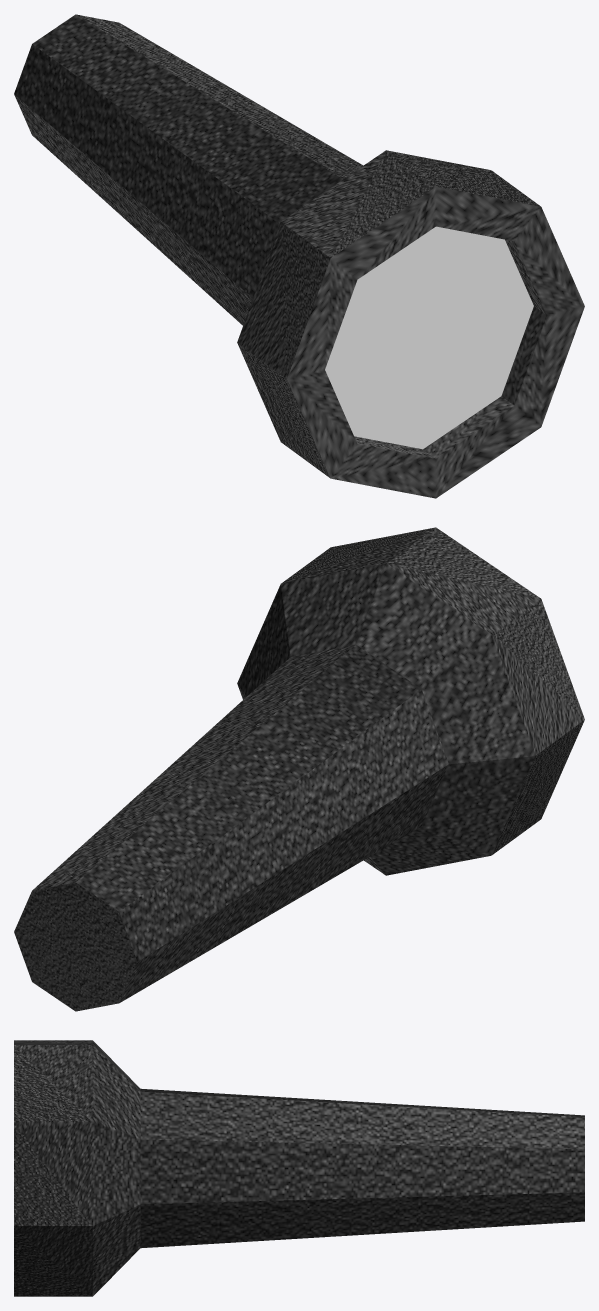
File: lanterna.fbx
3 renders of one model, top to bottom at view 1: azimuth 30°, elevation 25°; view 2: azimuth 150°, elevation 25°; view 3: azimuth 270°, elevation 25°, orthographic. The views are drawn at different scales.
Parts seen in each view (by area): view 1: Cylinder; view 2: Cylinder; view 3: Cylinder.
Boxes of the visible parts, box(x1,y1,x2,y2) form: Cylinder: box(14, 14, 584, 498); Cylinder: box(14, 527, 584, 1011); Cylinder: box(14, 1040, 584, 1296).
Size of the model in its own units: 129 by 129 by 269.
Materials: 1 (1 with a texture image).
